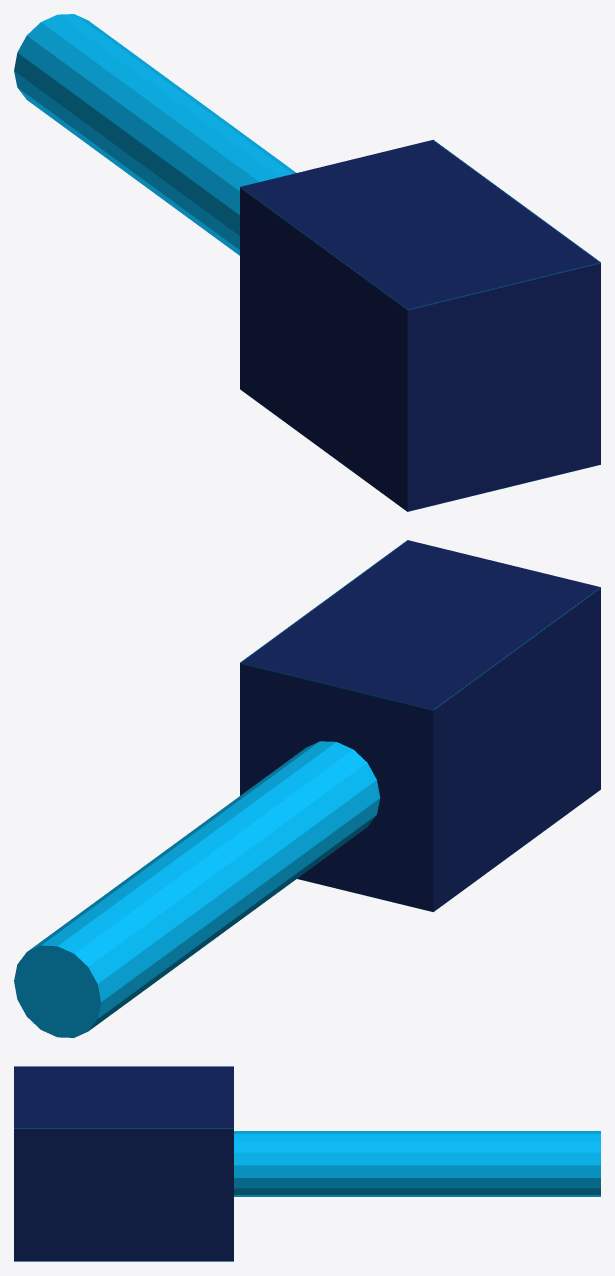
File: playerCannon.obj
The picture shows the model from 3 angles, top to bottom: view 1: azimuth 30°, elevation 25°; view 2: azimuth 150°, elevation 25°; view 3: azimuth 270°, elevation 25°; orthographic projection. The views are drawn at different scales.
Parts seen in each view (by area): view 1: playerCannon; view 2: playerCannon; view 3: playerCannon.
Boxes of the visible parts, x1=… form: playerCannon: x1=14, y1=14, x2=600, y2=511; playerCannon: x1=14, y1=540, x2=600, y2=1037; playerCannon: x1=14, y1=1066, x2=600, y2=1261.
Bounding box in the file's own units: 2 × 2 × 8.
Materials: 2 (2 with a texture image).
